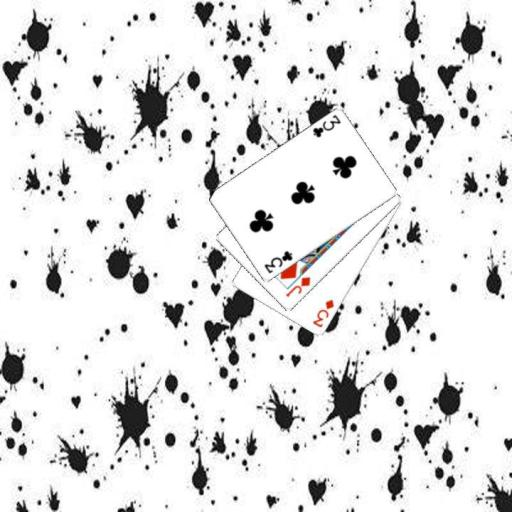3C: (261, 248, 294, 275), (309, 112, 342, 139)
3D: (309, 297, 336, 329)
JD: (282, 274, 312, 299)
